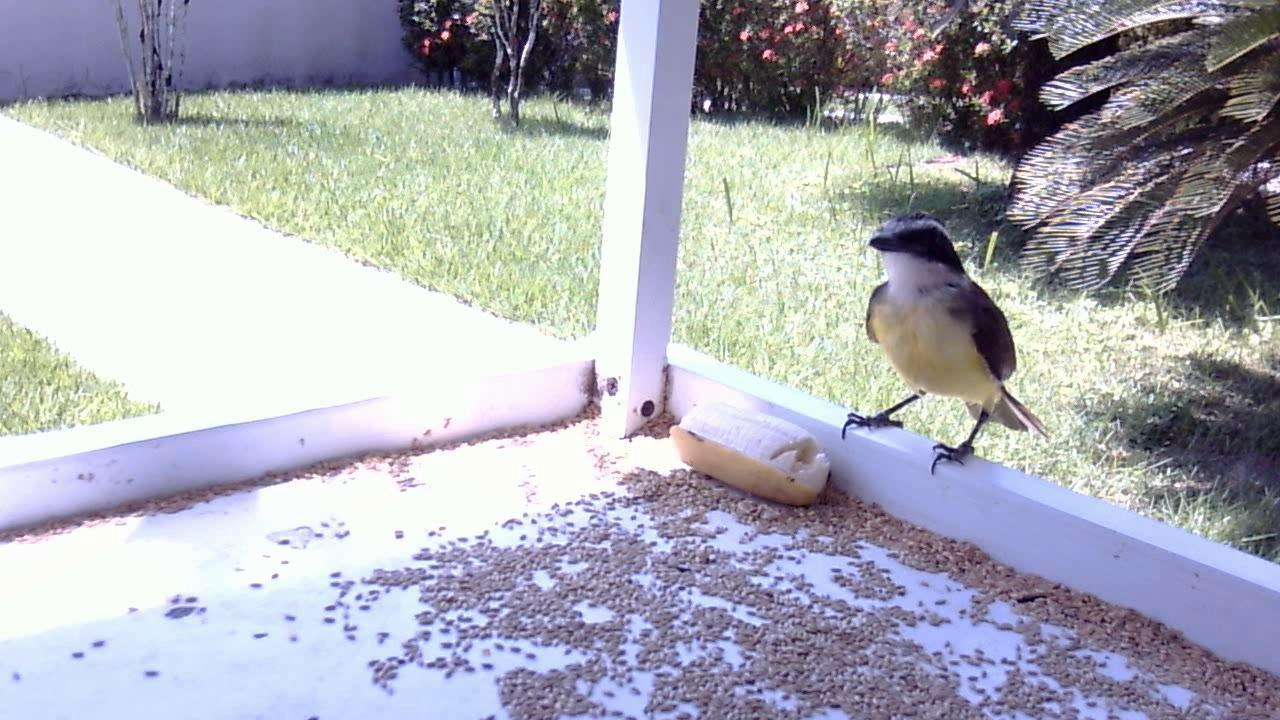bem_te_vi: (825, 207, 1054, 492)
